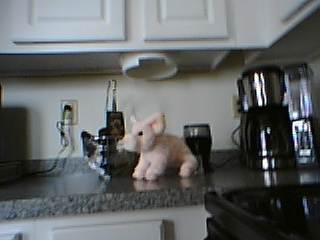piggy: (122, 111, 199, 182)
